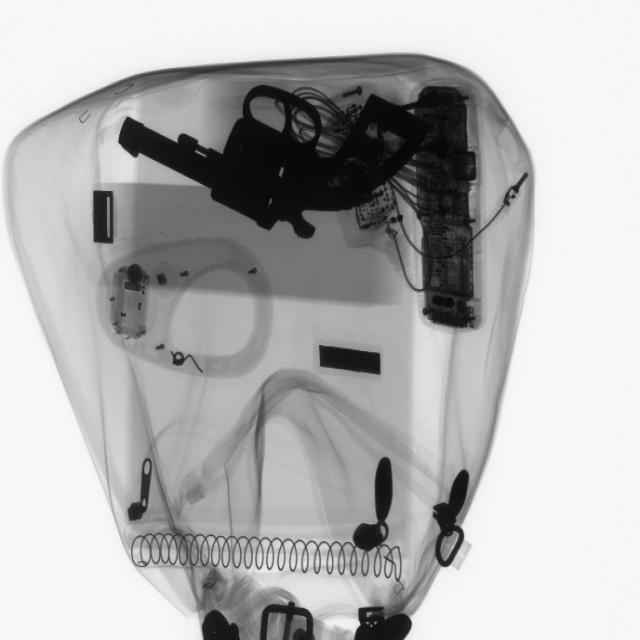GUN: (120, 88, 444, 241)
